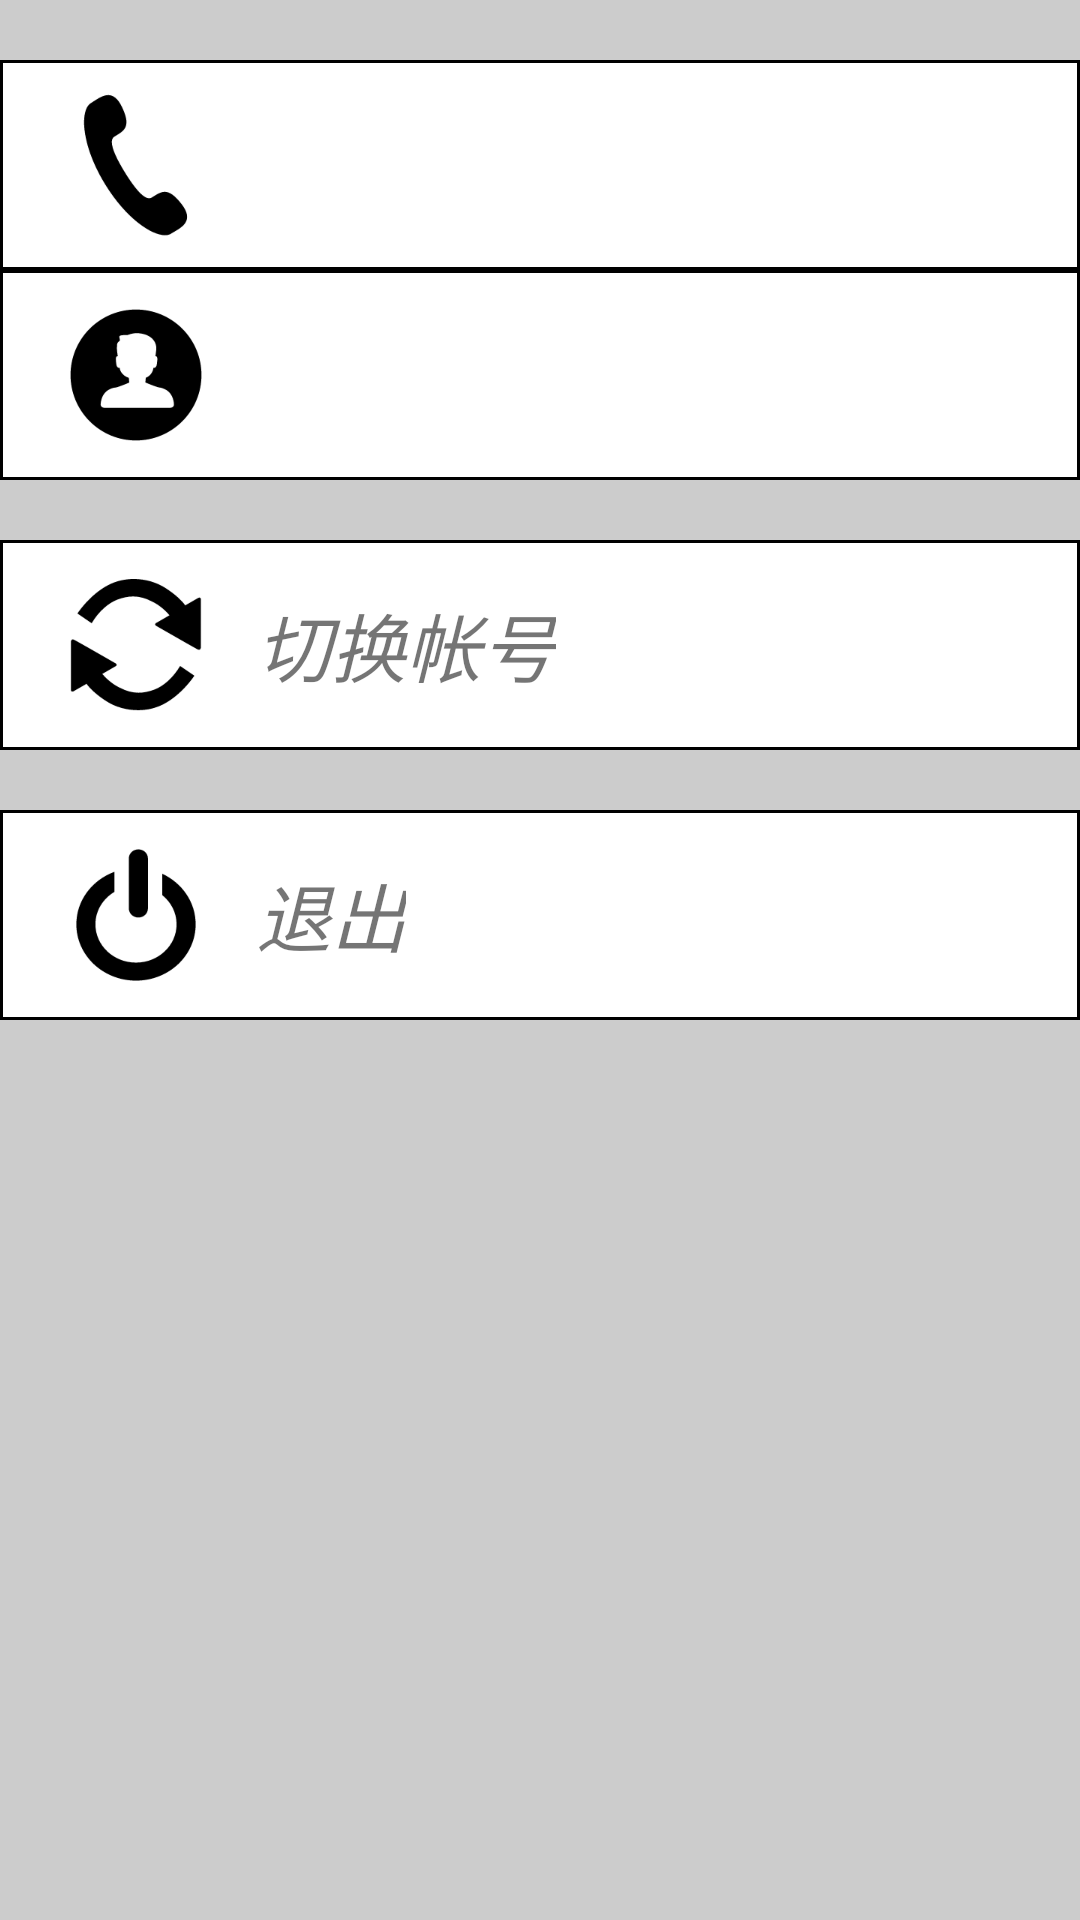

Icons on this 1080 x 1920 Android screen, each with the point to tap as [x,y]:
change: [135,645]
exit: [136,915]
phone: [135,165]
